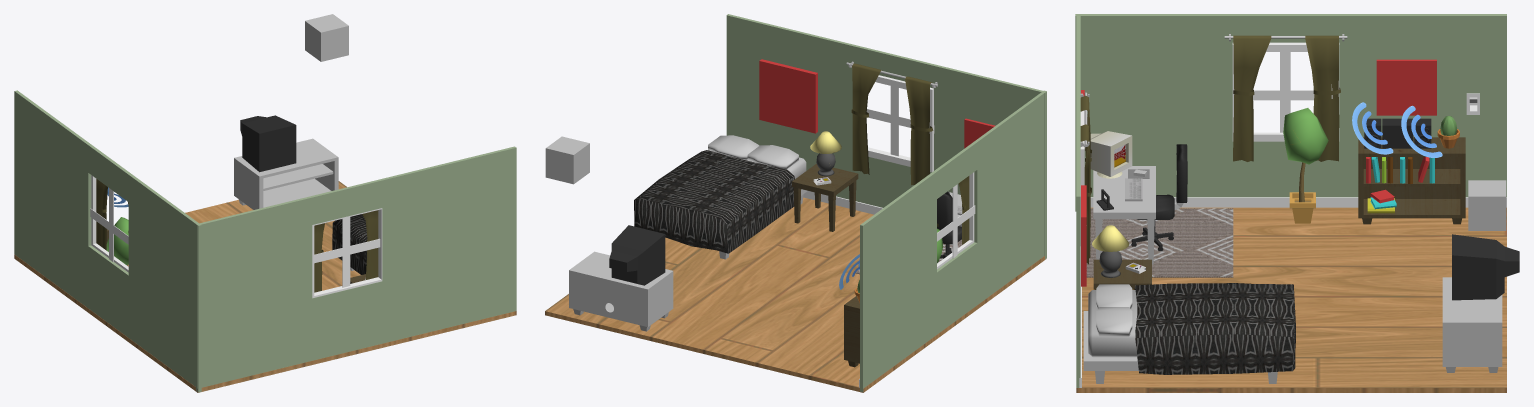
Rendered from bedroom_blend.dae.
The picture shows the model from 3 angles, left to right: view 1: azimuth 30°, elevation 25°; view 2: azimuth 150°, elevation 25°; view 3: azimuth 270°, elevation 25°; orthographic projection. The views are drawn at different scales.
Parts seen in each view (by area): view 1: wallNW, wallNE, floor (×2), tvStand, television, center, curtainsNW, comforter, windowFrameNW, windowNEStrutV, curtainsNE, windowFrameNE (+1 smaller); view 2: floor (×2), wallNE, wallNW, comforter, tvStand, curtainsNW, paintingNW, television, nightstand, center, bookshelf, windowFrameNW (+9 smaller); view 3: wallNE, floor, comforter, rug, bookshelf, curtainsNE, tvStand, television, paintingNE, computerDesk, ficus, center (+19 smaller).
Boxes of the visible parts, box(x1,y1,x2,y2) form: wallNW: box(196, 146, 516, 391); wallNE: box(14, 90, 201, 392); floor (×2): box(14, 181, 516, 392); tvStand: box(234, 138, 338, 209); television: box(240, 115, 296, 172); center: box(305, 14, 348, 61); curtainsNW: box(314, 210, 378, 292); comforter: box(332, 214, 367, 274); windowFrameNW: box(312, 208, 382, 298); windowNEStrutV: box(90, 188, 128, 262); curtainsNE: box(96, 179, 128, 250); windowFrameNE: box(91, 175, 128, 272); floor (×2): box(545, 86, 1046, 392); wallNE: box(860, 90, 1046, 392); wallNW: box(726, 14, 1046, 258); comforter: box(634, 150, 794, 253); tvStand: box(569, 251, 673, 331); curtainsNW: box(852, 63, 932, 185); paintingNW: box(759, 59, 817, 133); television: box(609, 225, 665, 285); nightstand: box(792, 164, 858, 231); center: box(545, 136, 589, 184); bookshelf: box(844, 296, 859, 367); windowFrameNW: box(868, 75, 933, 172); wallNE: box(1075, 14, 1506, 211); floor: box(1076, 207, 1506, 392); comforter: box(1134, 283, 1295, 374); rug: box(1086, 208, 1233, 277); bookshelf: box(1358, 137, 1465, 224); curtainsNE: box(1233, 35, 1339, 161); tvStand: box(1442, 277, 1502, 372); television: box(1452, 234, 1519, 300); paintingNE: box(1376, 59, 1436, 115); computerDesk: box(1093, 166, 1155, 264); ficus: box(1283, 108, 1328, 223); center: box(1468, 180, 1506, 230).
Bounding box in the file's own units: 81.44 × 40.15 × 82.35.
Materials: 25 (11 with a texture image).
